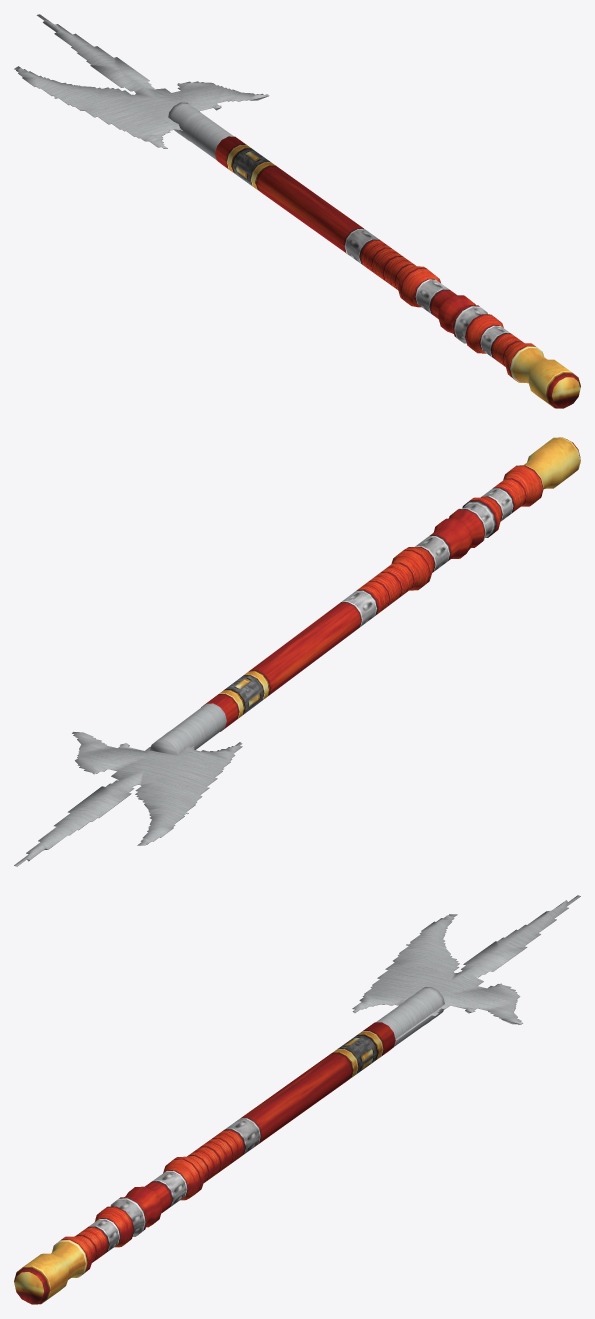
File: item_halberd1.glb
The picture shows the model from 3 angles, top to bottom: view 1: azimuth 30°, elevation 25°; view 2: azimuth 150°, elevation 25°; view 3: azimuth 330°, elevation 25°; orthographic projection. The views are drawn at different scales.
Parts seen in each view (by area): view 1: pole_halberd1; view 2: pole_halberd1; view 3: pole_halberd1.
Boxes of the visible parts, x1,y1,x2,y2 form: pole_halberd1: (14,14,580,408); pole_halberd1: (14,437,580,866); pole_halberd1: (14,895,580,1304).
Bounding box in the file's own units: 0.3611 × 0.082 × 2.
Materials: 1 (1 with a texture image).
